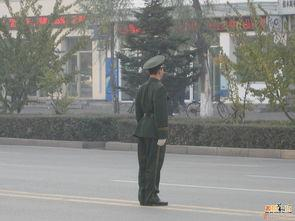up: (136, 53, 177, 209)
